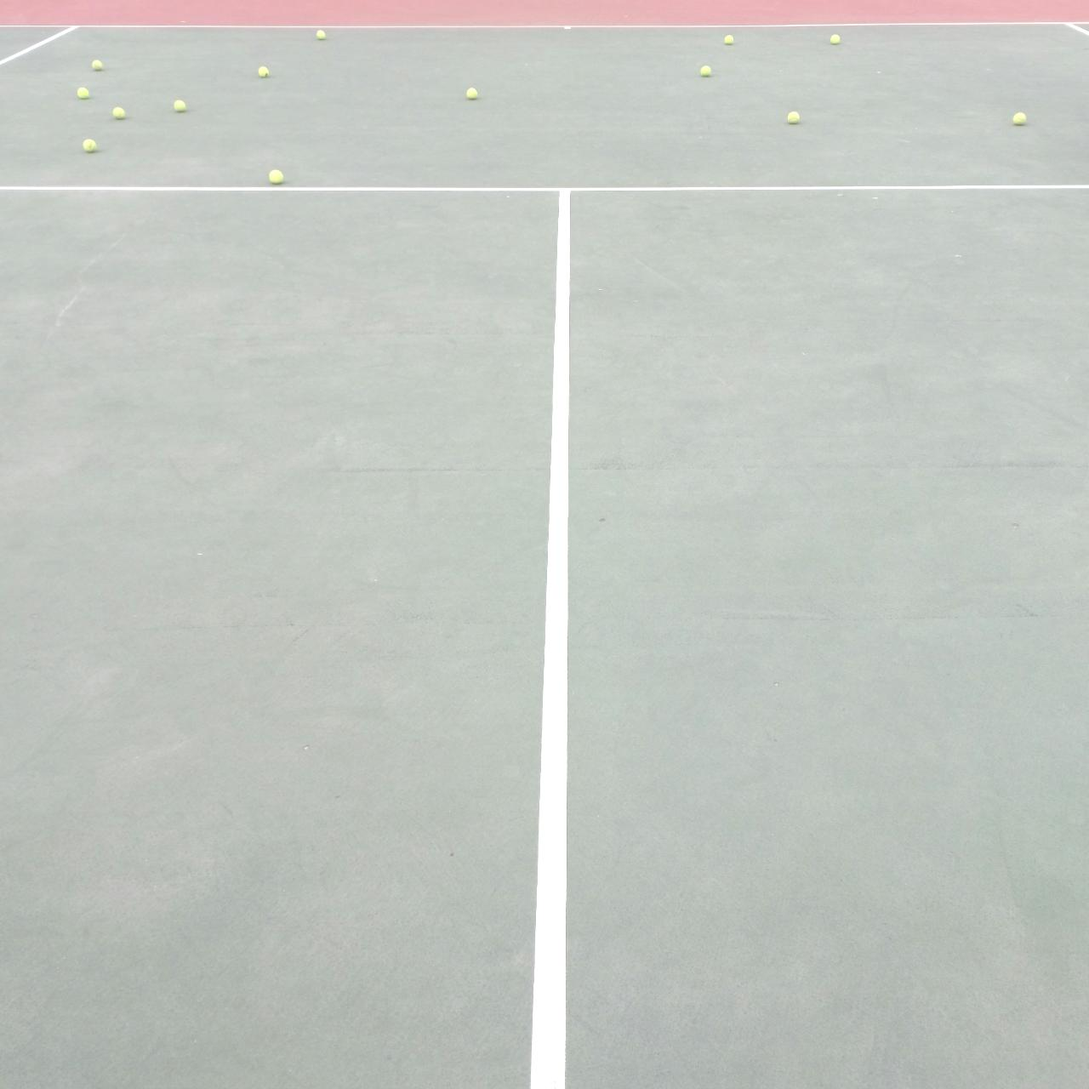tennis-ball: (1013, 110, 1028, 125), (269, 169, 284, 184), (83, 139, 97, 153), (113, 106, 126, 119), (788, 111, 800, 124), (174, 100, 186, 112), (77, 87, 90, 98), (700, 65, 712, 76), (466, 87, 478, 98), (830, 33, 841, 44), (258, 66, 269, 77), (92, 60, 103, 71), (724, 34, 734, 44), (317, 30, 326, 40)
